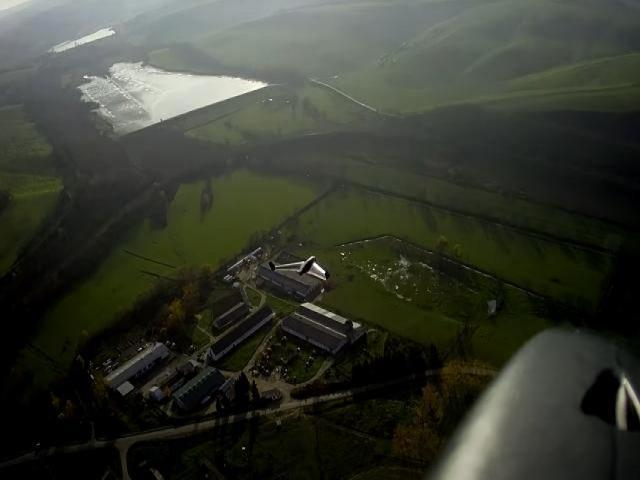iha: (275, 253, 330, 280)
